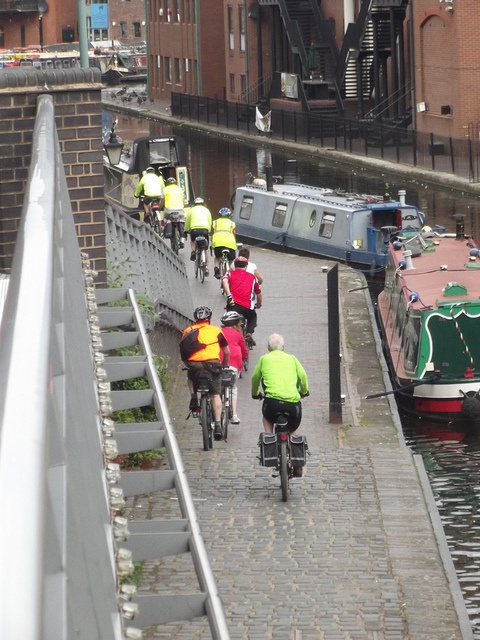non-vehicle: (256, 411, 309, 502), (221, 371, 234, 441), (199, 377, 211, 449), (139, 196, 161, 235), (217, 248, 229, 294), (194, 237, 206, 283), (169, 216, 180, 254)
